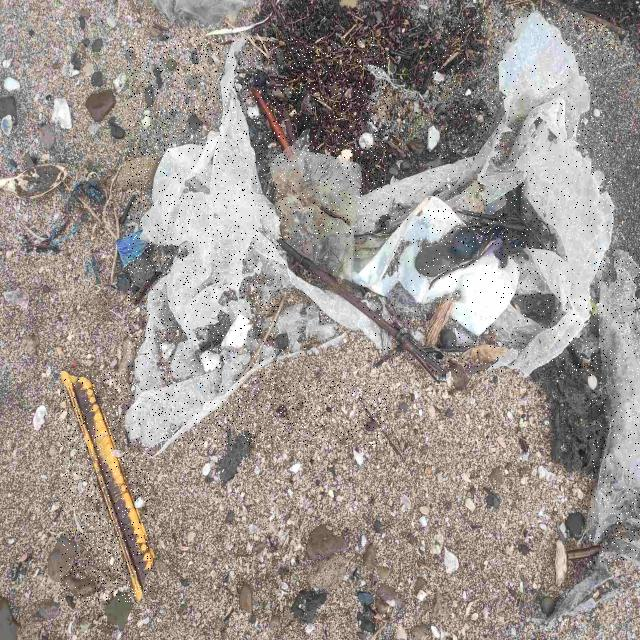biowaste: (280, 240, 454, 380), (421, 179, 556, 282)
metal: (61, 371, 152, 602)
plastic: (128, 38, 389, 446), (426, 13, 614, 373), (357, 185, 519, 334), (590, 251, 640, 564)
